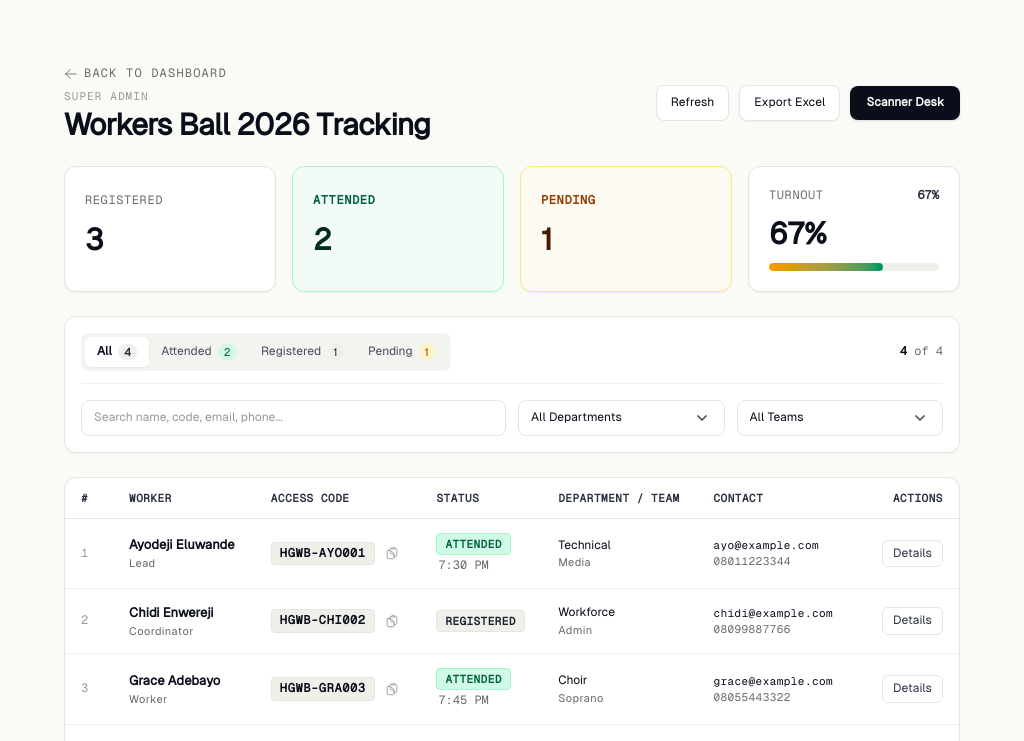
Scenario: WorkersBallAdmin (/admin/workers-ball-registrations) › filters registrations by search keyword (name or code)
The width and height of the screenshot is (1024, 741).
Expected: the text "Ayodeji Eluwande" is shown, [129, 535, 239, 555]
Type "Chidi" into the search field with placeholder "Search name, code, email, phone..." at [294, 418], box [81, 400, 506, 436]
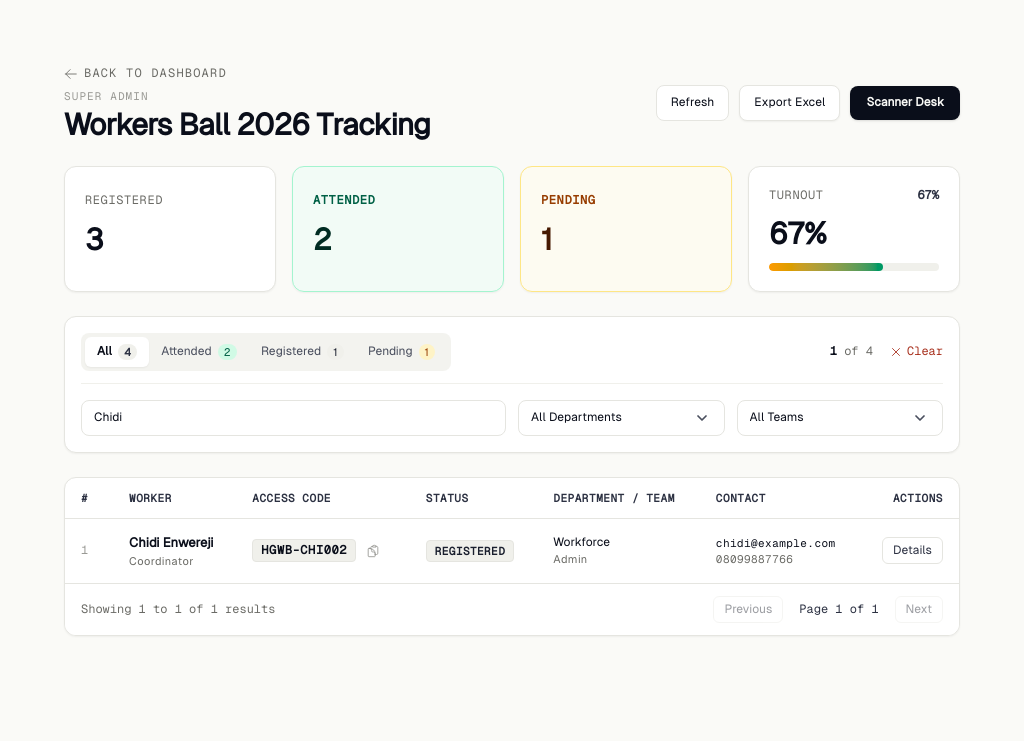
Expected: the text "Chidi Enwereji" is shown, [129, 533, 220, 553]
Now the text "Ayodeji Eluwande" is gone
Now the text "Grace Adebayo" is gone
# Clear search
Clear the search field with placeholder "Search name, code, email, phone..." at [294, 418], box [81, 400, 506, 436]
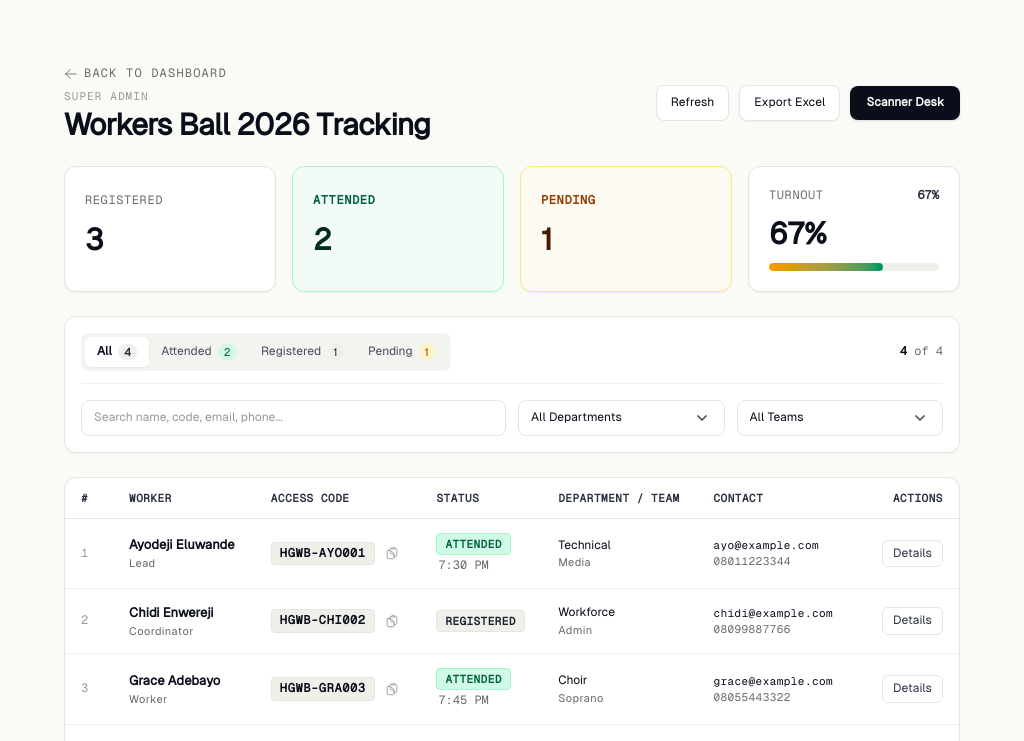
Now the text "Ayodeji Eluwande" is shown, box [129, 535, 239, 555]
